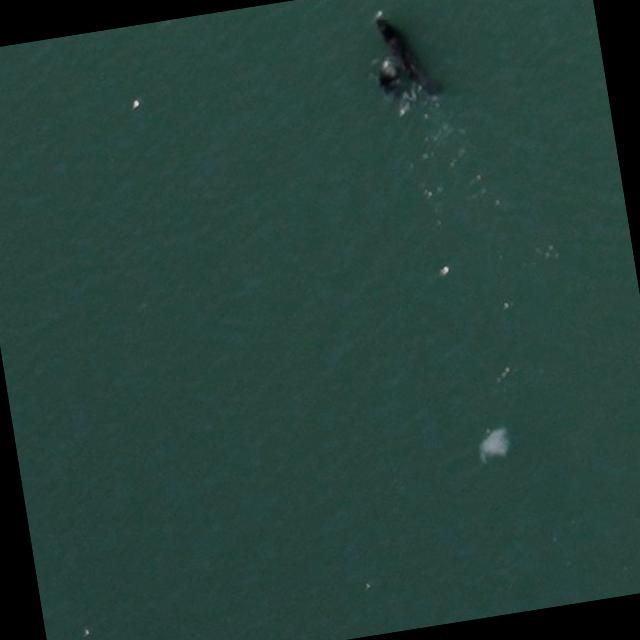seal: (370, 15, 445, 101), (368, 57, 411, 101)
